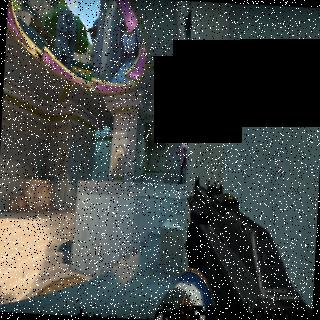ENEMY-BODY: (178, 134, 188, 184)
ENEMY-HEAD: (182, 136, 186, 144)
